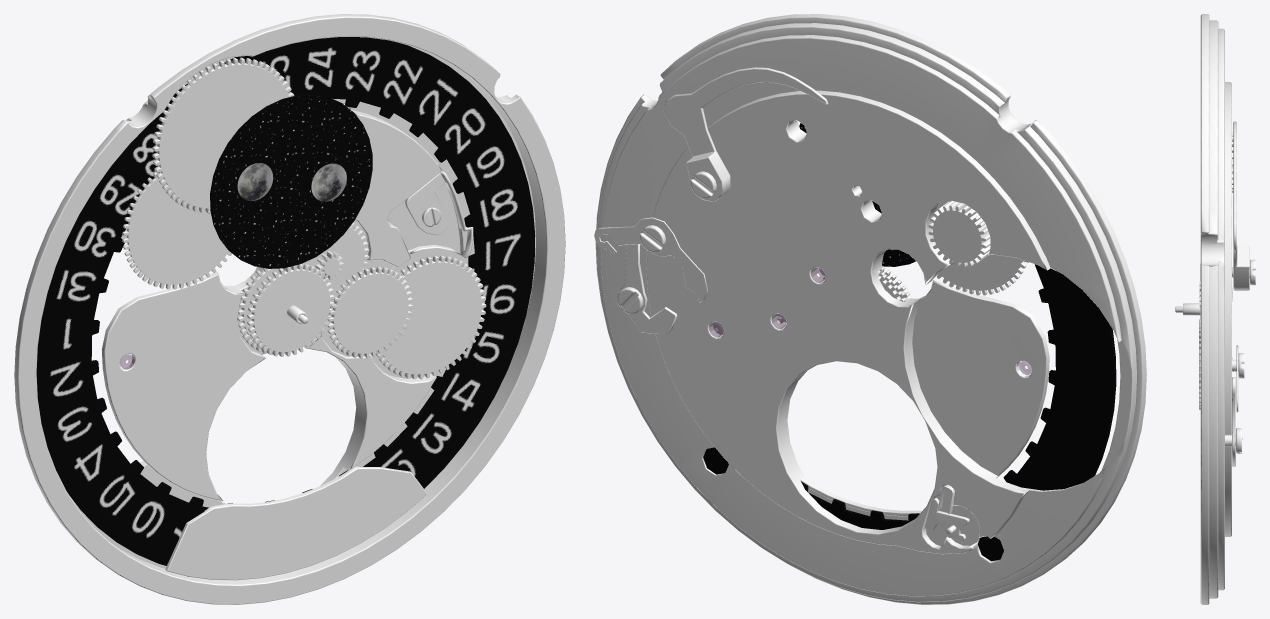
File: mainplate.glb
3 renders of one model, left to right at view 1: azimuth 30°, elevation 25°; view 2: azimuth 150°, elevation 25°; view 3: azimuth 270°, elevation 25°, orthographic. The views are drawn at different scales.
Parts seen in each view (by area): view 1: mainplate-xploded-8, mainplate-xploded-12, moon-bg, mainplate-xploded-13, mainplate-xploded-17, mainplate-xploded-15, mainplate-xploded-14, mainplate-xploded-19, mainplate-xploded-18, mainplate-xploded-16, moon, mainplate-xploded-10 (+1 smaller); view 2: mainplate-xploded-8, mainplate-xploded-12, mainplate-xploded-14, mainplate-xploded-7, mainplate-xploded-3, mainplate-xploded-5, mainplate-xploded-6, mainplate-xploded-13; view 3: mainplate-xploded-8, mainplate-xploded-7, mainplate-xploded-5, mainplate-xploded-4, mainplate-xploded-19, mainplate-xploded-1, mainplate-xploded-3, mainplate-xploded-2, mainplate-xploded-18.
Boxes of the visible parts, x1,y1,x2,y2 form: mainplate-xploded-8: (14,14,565,604); mainplate-xploded-12: (36,37,535,565); moon-bg: (211,95,372,268); mainplate-xploded-13: (165,466,427,580); mainplate-xploded-17: (152,57,294,213); mainplate-xploded-15: (375,255,486,379); mainplate-xploded-14: (122,172,231,289); mainplate-xploded-19: (247,264,334,356); mainplate-xploded-18: (327,266,412,358); mainplate-xploded-16: (283,223,369,306); moon: (237,163,346,201); mainplate-xploded-10: (405,171,473,258); mainplate-xploded-8: (595,14,1146,604); mainplate-xploded-12: (703,261,1116,561); mainplate-xploded-14: (928,201,1026,295); mainplate-xploded-7: (663,67,828,201); mainplate-xploded-3: (594,217,707,302); mainplate-xploded-5: (619,244,677,334); mainplate-xploded-6: (924,485,969,541); mainplate-xploded-13: (800,478,922,520); mainplate-xploded-8: (1200,14,1231,604); mainplate-xploded-7: (1233,121,1249,290); mainplate-xploded-5: (1232,377,1235,466); mainplate-xploded-4: (1225,428,1241,453); mainplate-xploded-19: (1183,264,1200,318); mainplate-xploded-1: (1232,353,1244,378); mainplate-xploded-3: (1236,345,1238,412); mainplate-xploded-2: (1232,259,1255,285); mainplate-xploded-18: (1199,319,1200,409).
Bounding box in the file's own units: 0.0295 × 0.0295 × 0.00401.
7 materials, 3 textured.
